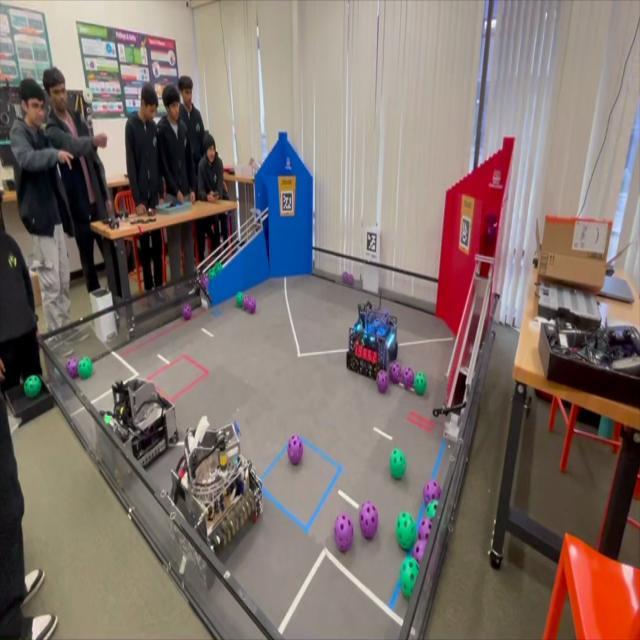artifact_green: (396, 512, 416, 550), (400, 558, 418, 599), (390, 448, 406, 479), (24, 375, 42, 399), (414, 372, 427, 395), (78, 358, 92, 379), (426, 500, 438, 519), (242, 294, 250, 311), (236, 292, 244, 308), (207, 267, 216, 281), (214, 262, 222, 274), (104, 415, 112, 424), (213, 263, 220, 273)
artifact_purple: (334, 513, 353, 552), (359, 502, 378, 539), (288, 435, 303, 465), (423, 480, 441, 503), (485, 215, 497, 243), (412, 539, 426, 563), (376, 370, 389, 394), (418, 518, 431, 540), (389, 362, 402, 383), (402, 367, 414, 389), (66, 358, 78, 378), (247, 297, 256, 314), (182, 304, 191, 320), (200, 274, 208, 289), (347, 273, 355, 286), (243, 296, 249, 311), (342, 272, 349, 284)
